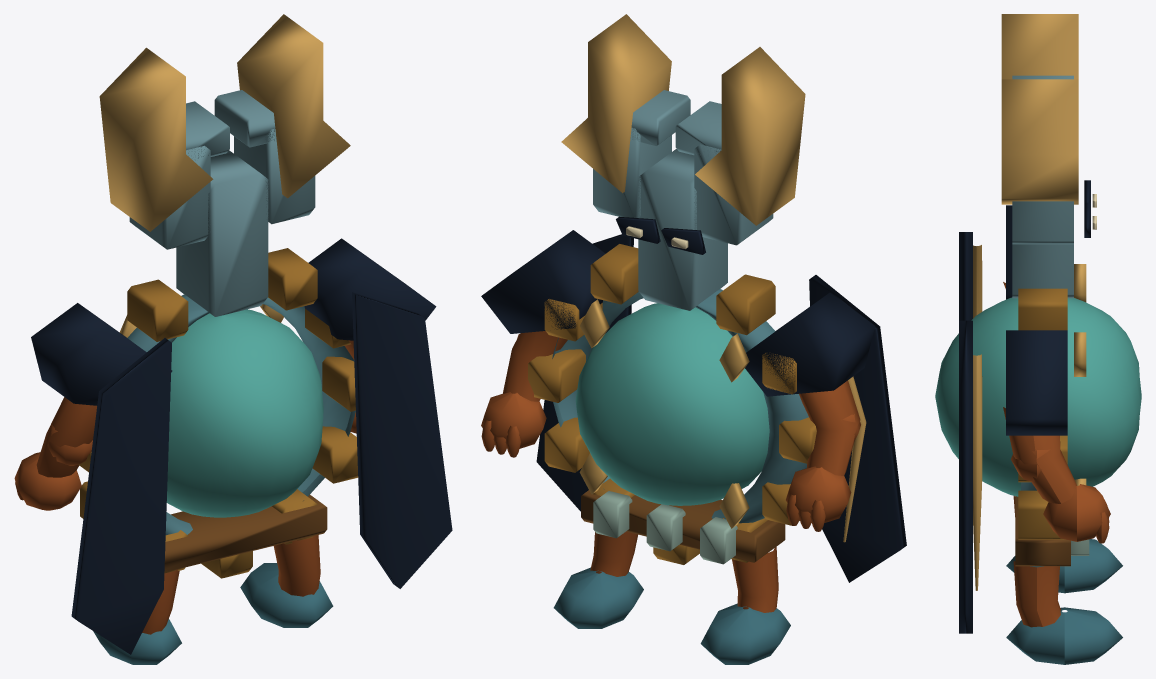
The model's file is hero_pipe_wrench.glb.
The picture shows the model from 3 angles, left to right: view 1: azimuth 30°, elevation 25°; view 2: azimuth 150°, elevation 25°; view 3: azimuth 270°, elevation 25°; orthographic projection. The views are drawn at different scales.
Visible parts, largest first — view 1: TailoredCoat (×2), GlassCore, SpannerJaw (×2), ShoulderGuard (×2), WrenchHeadStem, ToolBelt, GearBody, Foot1, GearTooth11, Jaw1, Jaw-1, UpperArm-1 (+12 smaller); view 2: GlassCore, SpannerJaw (×2), ShoulderGuard (×2), TailoredCoat (×2), WrenchHeadStem, GearBody, Foot1, Foot-1, ToolBelt, UpperArm-1, VesselClasp (×4), Jaw-1 (+21 smaller); view 3: GlassCore, SpannerJaw (×2), ShoulderGuard (×2), TailoredCoat (×2), Foot1, WrenchHeadStem, UpperArm1, Jaw1, GiltSeam (×2), Shin1, Glove1, Foot-1 (+5 smaller).
Boxes of the visible parts, left/top/right/bottom form: TailoredCoat (×2): left=71, top=292, right=452, bottom=654; GlassCore: left=166, top=309, right=323, bottom=517; SpannerJaw (×2): left=99, top=14, right=350, bottom=231; ShoulderGuard (×2): left=31, top=238, right=436, bottom=405; WrenchHeadStem: left=176, top=150, right=268, bottom=316; ToolBelt: left=164, top=495, right=327, bottom=572; GearBody: left=127, top=294, right=355, bottom=535; Foot1: left=240, top=563, right=333, bottom=627; GearTooth11: left=127, top=279, right=188, bottom=341; Jaw1: left=234, top=128, right=315, bottom=224; Jaw-1: left=129, top=145, right=210, bottom=249; UpperArm-1: left=36, top=397, right=96, bottom=477; GlassCore: left=575, top=303, right=769, bottom=505; SpannerJaw (×2): left=561, top=14, right=805, bottom=225; ShoulderGuard (×2): left=481, top=230, right=875, bottom=396; TailoredCoat (×2): left=536, top=234, right=906, bottom=582; WrenchHeadStem: left=638, top=149, right=727, bottom=310; GearBody: left=552, top=289, right=808, bottom=523; Foot1: left=553, top=567, right=643, bottom=628; Foot-1: left=700, top=603, right=790, bottom=664; ToolBelt: left=581, top=490, right=785, bottom=562; UpperArm-1: left=799, top=380, right=860, bottom=475; VesselClasp (×4): left=579, top=299, right=749, bottom=528; Jaw-1: left=694, top=144, right=773, bottom=245; GlassCore: left=935, top=297, right=1141, bottom=496; SpannerJaw (×2): left=1001, top=14, right=1078, bottom=204; ShoulderGuard (×2): left=1006, top=205, right=1067, bottom=435; TailoredCoat (×2): left=959, top=232, right=972, bottom=633; Foot1: left=1006, top=607, right=1122, bottom=664; WrenchHeadStem: left=1012, top=244, right=1073, bottom=298; UpperArm1: left=1003, top=407, right=1076, bottom=503; Jaw1: left=1012, top=201, right=1073, bottom=244; GiltSeam (×2): left=973, top=245, right=982, bottom=590; Shin1: left=1013, top=561, right=1060, bottom=627; Glove1: left=1043, top=484, right=1110, bottom=541; Foot-1: left=1006, top=539, right=1122, bottom=593.
Size of the model in its own units: 1.39 by 2.09 by 0.67.
